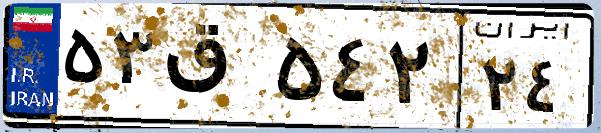2: (385, 28, 445, 110), (475, 38, 525, 113)
3: (110, 28, 158, 98)
4: (330, 28, 385, 110), (525, 38, 570, 115)
5: (270, 28, 330, 110), (57, 26, 110, 100)
ق: (158, 20, 270, 120)
